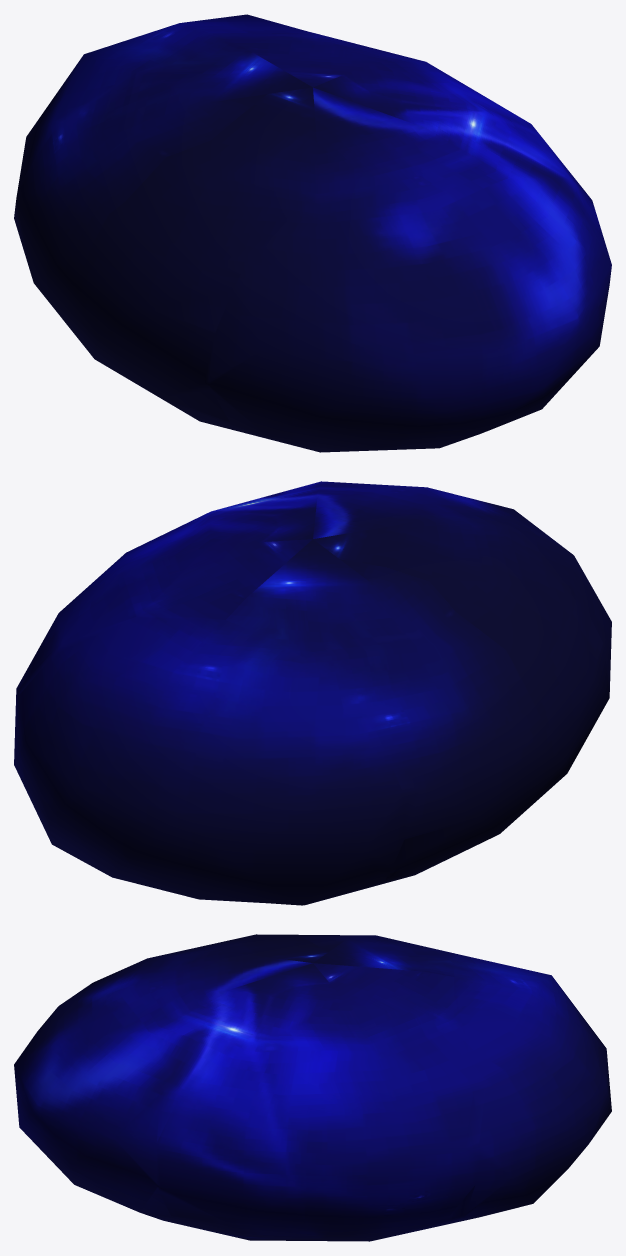
File: edf-support-sensors.fbx
3 views of the same model, one above another, from view 1: azimuth 30°, elevation 25°; view 2: azimuth 150°, elevation 25°; view 3: azimuth 270°, elevation 25° (orthographic). The views are drawn at different scales.
Visible parts, largest first — view 1: edf-support-sensors:Layer2, edf-support-sensors:Layer5, edf-support-sensors:Layer4, edf-support-sensors:Layer3; view 2: edf-support-sensors:Layer3, edf-support-sensors:Layer5, edf-support-sensors:Layer4, edf-support-sensors:Layer2; view 3: edf-support-sensors:Layer4, edf-support-sensors:Layer2, edf-support-sensors:Layer3, edf-support-sensors:Layer5.
Part boxes in pixels (<box>): edf-support-sensors:Layer2: <box>209,157,611,452</box>; edf-support-sensors:Layer5: <box>15,41,391,441</box>; edf-support-sensors:Layer4: <box>226,31,603,237</box>; edf-support-sensors:Layer3: <box>14,14,306,239</box>; edf-support-sensors:Layer3: <box>14,616,404,905</box>; edf-support-sensors:Layer5: <box>226,500,609,894</box>; edf-support-sensors:Layer4: <box>15,487,391,710</box>; edf-support-sensors:Layer2: <box>295,481,611,690</box>; edf-support-sensors:Layer4: <box>156,963,479,1241</box>; edf-support-sensors:Layer2: <box>14,952,189,1226</box>; edf-support-sensors:Layer3: <box>447,955,611,1224</box>; edf-support-sensors:Layer5: <box>174,934,459,978</box>.
Bounding box in the file's own units: 374 × 235 × 511.
Materials: 13 (5 with a texture image).
